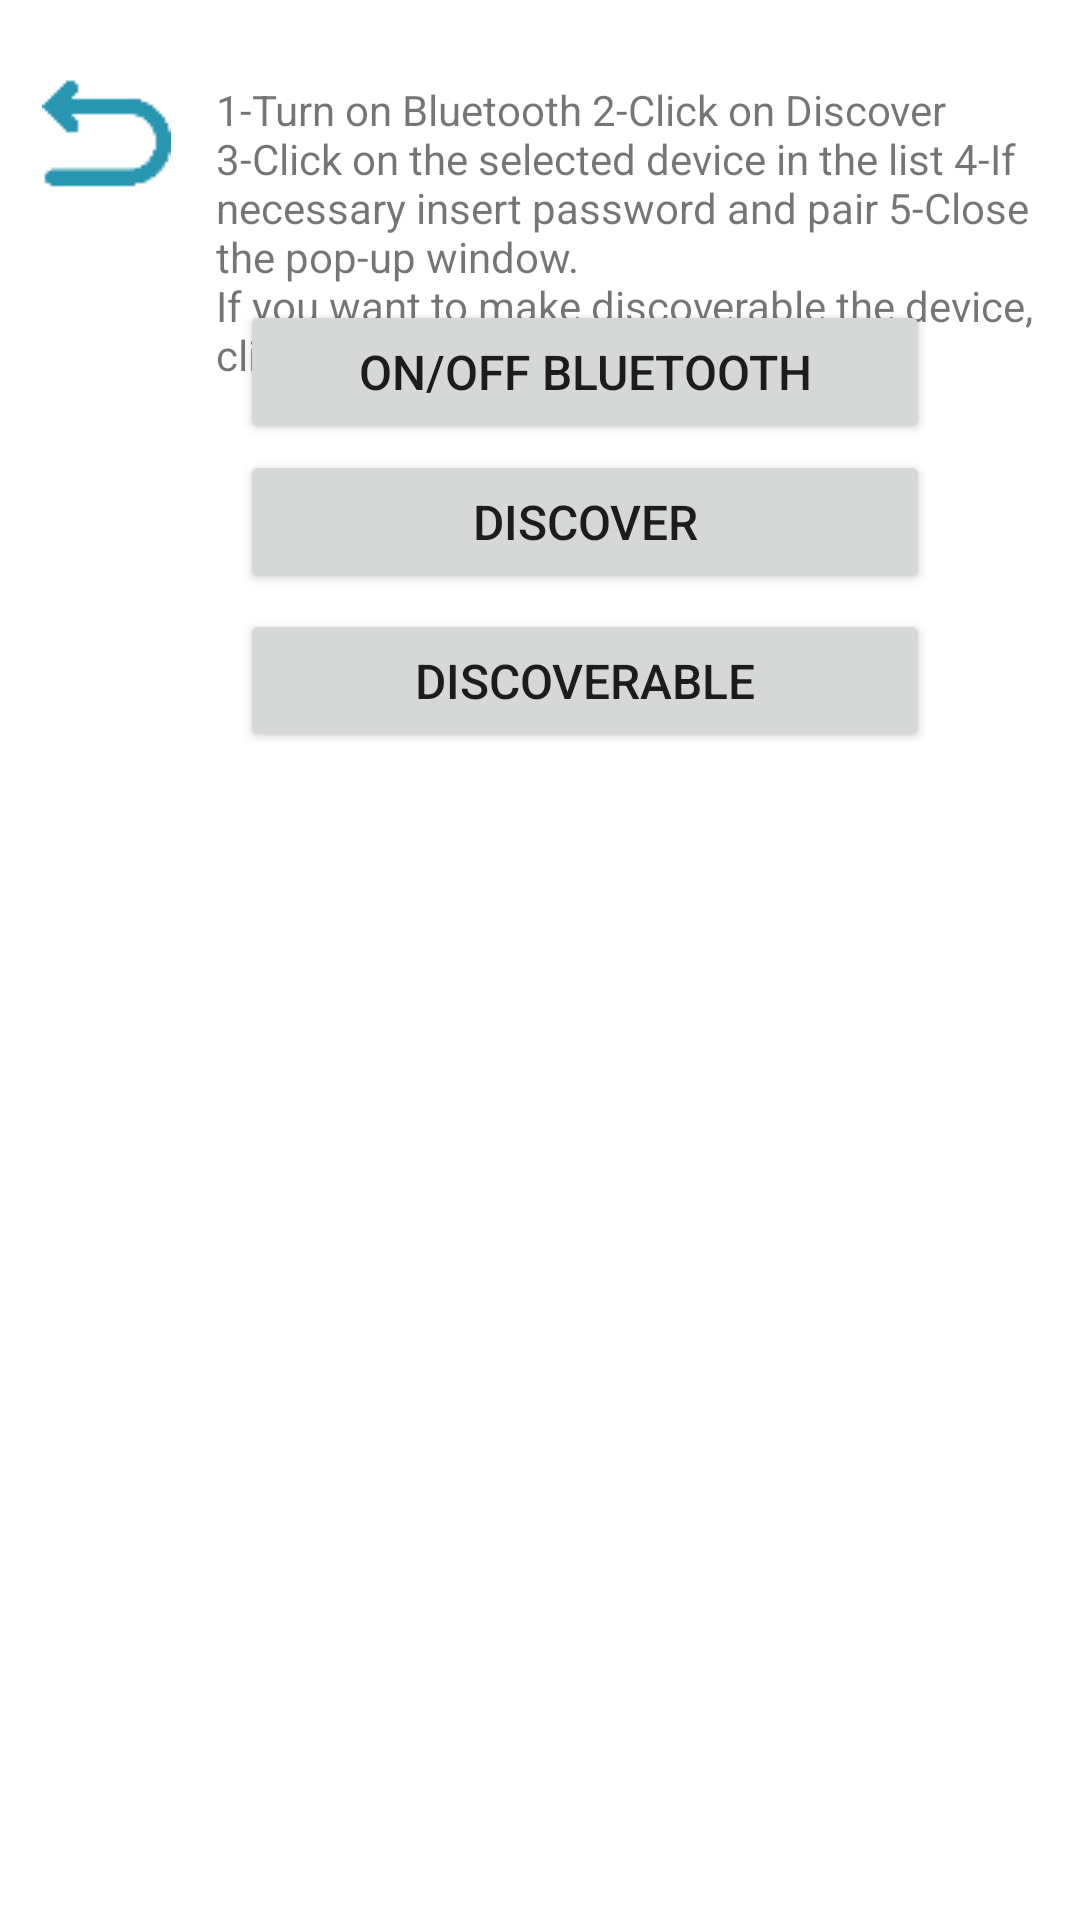

Named icons in this screenshot (1080×1920) and their centers, point (x, y):
back: point (106, 133)
